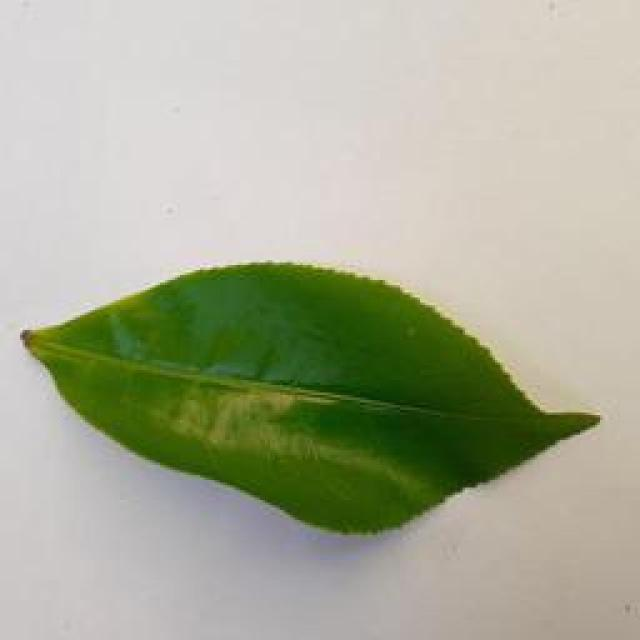Healthy: (14, 258, 609, 542)
